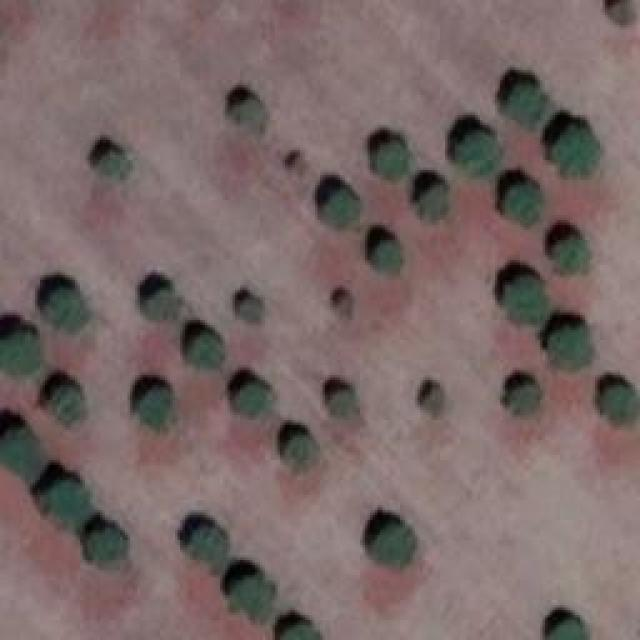Tree: (500, 270, 553, 325), (0, 425, 50, 480), (40, 478, 95, 528), (225, 568, 275, 618), (43, 290, 88, 340), (367, 140, 415, 185), (455, 128, 503, 173), (547, 325, 595, 370), (50, 380, 93, 430), (0, 328, 40, 381), (373, 520, 416, 565), (555, 122, 595, 170), (505, 80, 545, 125), (88, 528, 128, 571), (318, 190, 361, 230), (503, 183, 543, 226), (550, 233, 590, 276), (605, 377, 640, 425), (138, 380, 173, 425), (235, 380, 270, 420), (283, 433, 318, 473), (188, 525, 223, 565), (415, 183, 448, 223), (190, 330, 220, 370), (370, 238, 400, 273), (510, 385, 540, 418), (233, 100, 266, 128), (148, 288, 178, 318), (547, 617, 584, 640), (610, 0, 638, 30), (95, 153, 128, 178), (330, 390, 358, 418), (278, 622, 318, 640), (420, 390, 443, 415), (240, 300, 263, 323), (335, 298, 355, 318)
